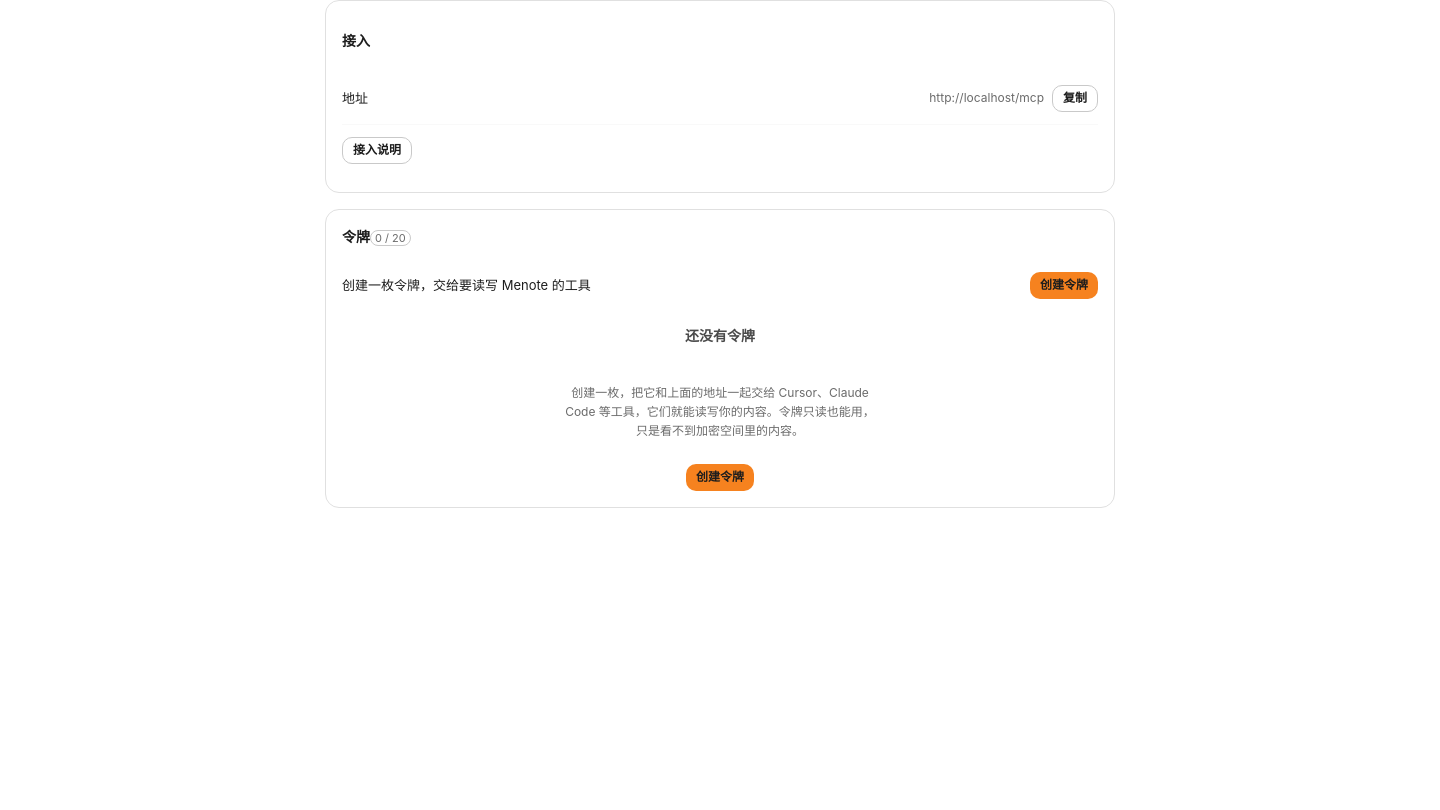
Test: 设置 › MCP：创建弹窗 › 勾「允许通过 URL 使用」后风险说明**平铺**出现（警告不得藏进 ⓘ）
The image size is (1440, 810).
Expected: the text "还没有令牌" is shown, [685,325,755,346]
Click the button "创建令牌" in the row of "创建一枚令牌，交给要读写 Menote 的工具": click(1064, 285) [1030,272,1098,299]
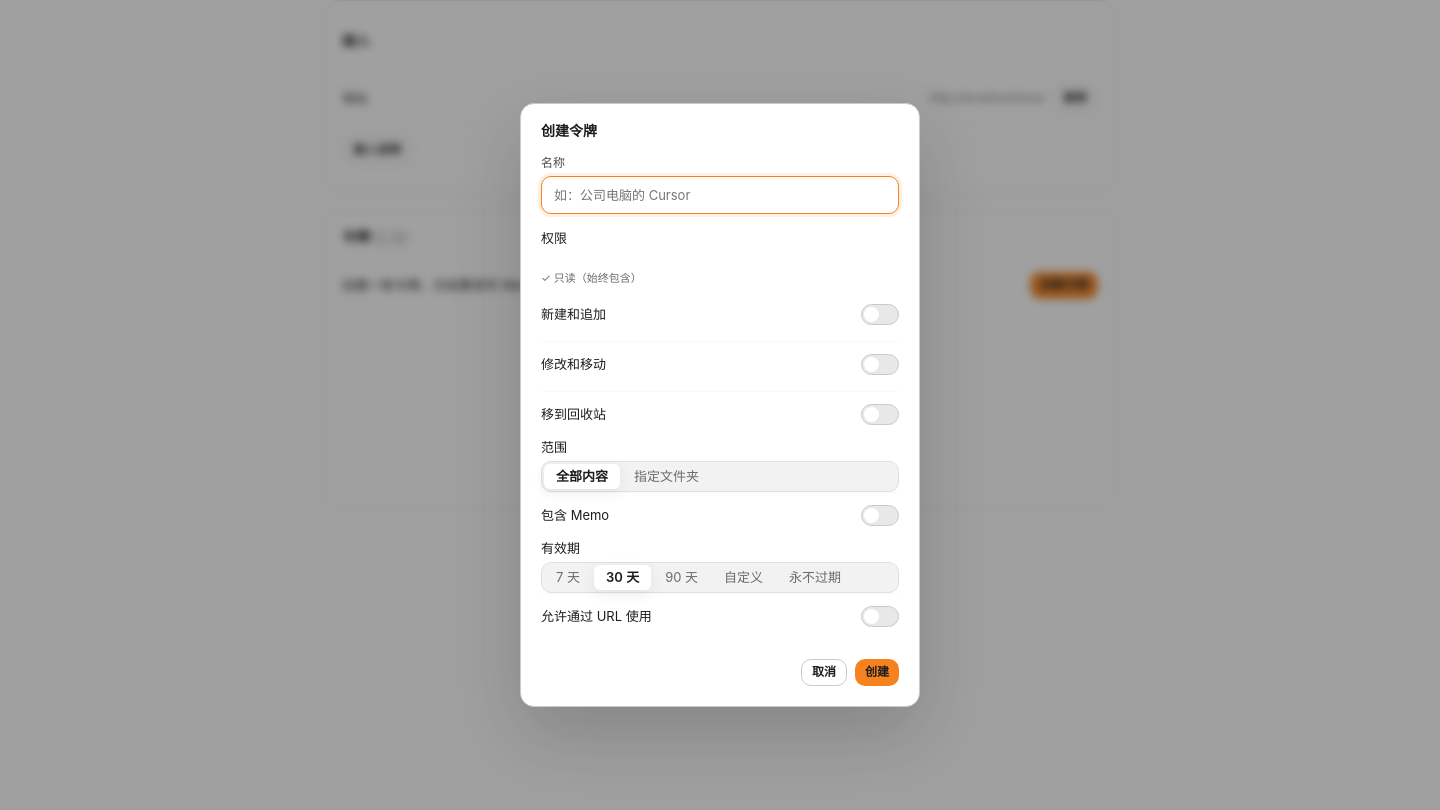
Click the switch named "允许这枚令牌通过 URL 使用": click(880, 616) [861,606,899,627]
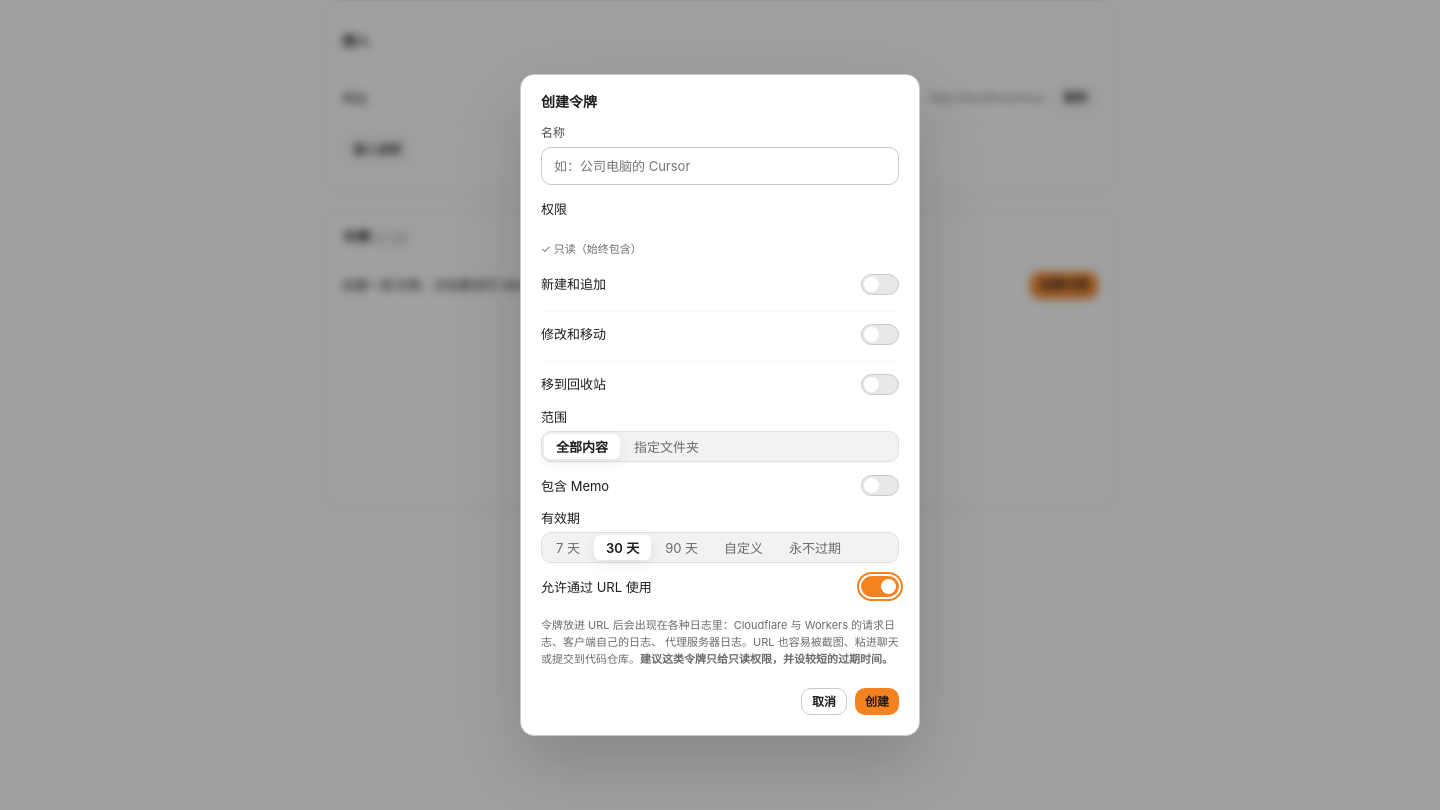
Expected: the text "会出现在各种日志里" is shown, [541,618,899,666]
